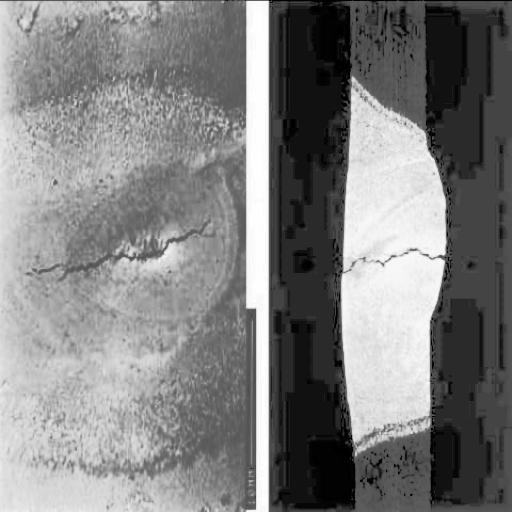crack: (26, 221, 222, 277), (345, 245, 448, 274)
